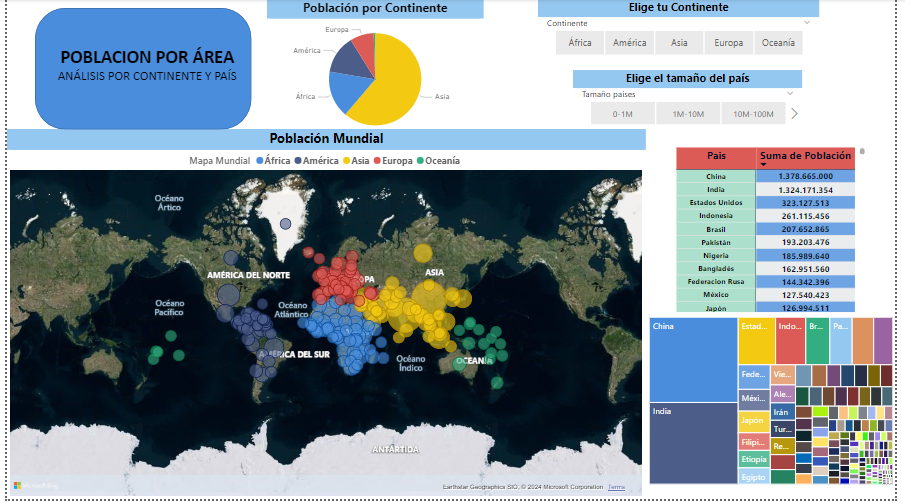

What the dashboard file says about the page in this screenshot:
{"tool":"powerbi","page":{"name":"Poblaciones por área","canvas":[1280,720],"ordinal":0},"visuals":[{"type":"pivotTable","fields":{"Rows":["Paises.Pais","Paises.Continente"],"Values":["Sum(Population.Population)"]},"box":[958.3,208.3,281.7,246.7],"z":0},{"type":"slicer","title":"Elige el tamaño del país","fields":{"Values":["Population.Tamaño paises"]},"box":[815,101.7,330,85],"z":1000},{"type":"slicer","title":"Elige tu Continente","fields":{"Values":["Paises.Continente"]},"box":[765,0,405,86.7],"z":2000},{"type":"map","title":"Población Mundial ","fields":{"Category":["Paises.Pais"],"Size":["Sum(Population.Población)"],"Series":["Paises.Continente"]},"box":[0,186.7,920,533.3],"z":3000},{"type":"shape","box":[40,13.3,311.7,175],"z":4000},{"type":"pieChart","title":"Población por Continente","fields":{"Category":["Paises.Continente"],"Y":["Sum(Population.Población)"]},"box":[375,0,311.7,208.3],"z":5000},{"type":"treemap","fields":{"Values":["Sum(Population.Población)"],"Group":["Paises.Pais"]},"box":[920,453.3,360,250],"z":6000},{"type":"textbox","box":[51.7,61.7,300,80],"z":7000}]}

Visuals, with their boxes on the page's 1280x720 design canvas (x1, y1, x2, y2). These are canvas units, not pixel positions in the 905x503 screenshot, which may show the page scaled, cropped or inside an application window:
pivotTable - Paises.Pais x Paises.Continente: <region>958, 208, 1240, 455</region>
"Elige el tamaño del país" slicer: <region>815, 102, 1145, 187</region>
"Elige tu Continente" slicer: <region>765, 0, 1170, 87</region>
"Población Mundial " map: <region>0, 187, 920, 720</region>
shape: <region>40, 13, 352, 188</region>
"Población por Continente" pieChart: <region>375, 0, 687, 208</region>
treemap - Sum(Population.Población) x Paises.Pais: <region>920, 453, 1280, 703</region>
textbox: <region>52, 62, 352, 142</region>
